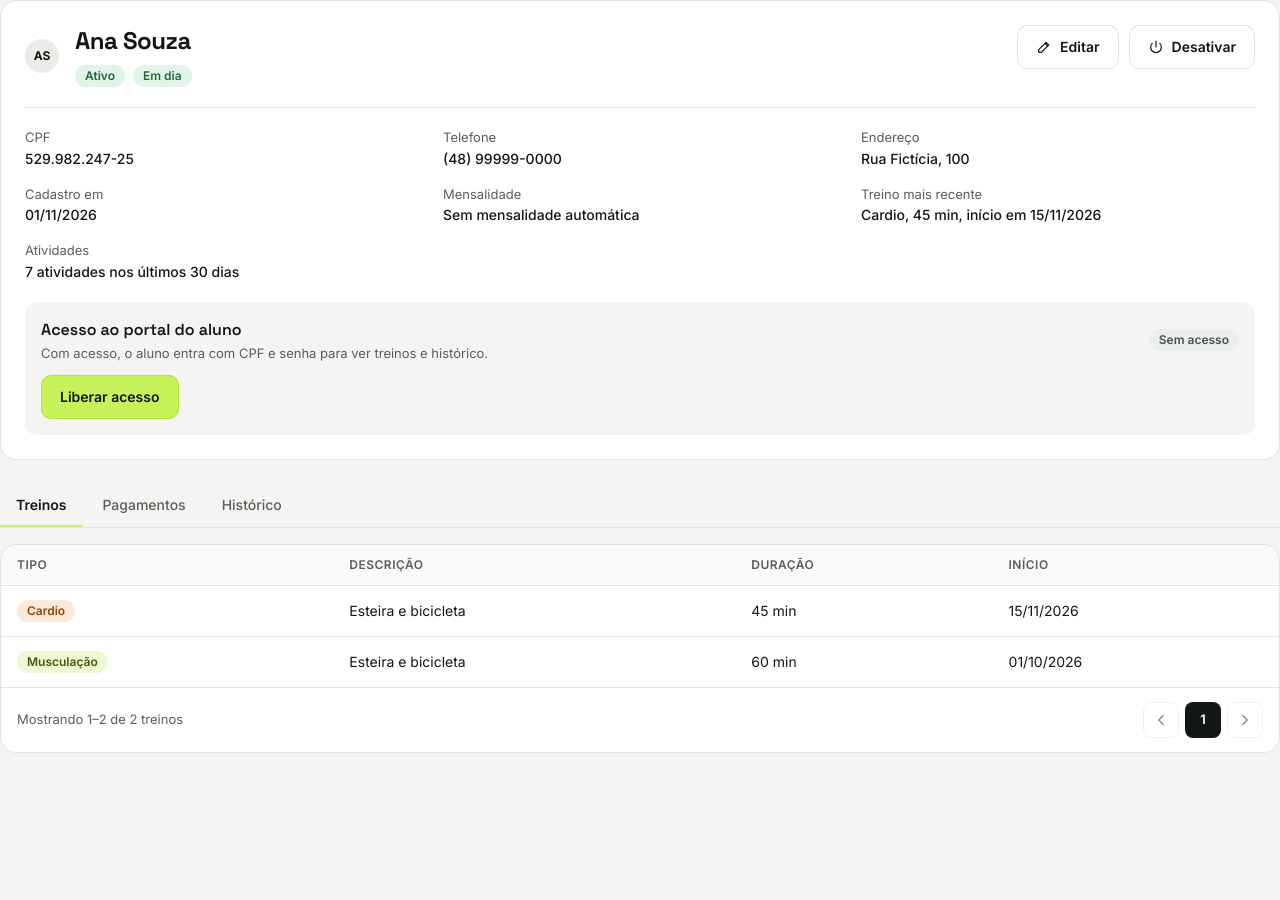
Test: FichaMembro › editar, desativar e reativar › mostra o erro da API num toast e mantém a ficha
Expected: the heading "Ana Souza" is shown, [75,25,192,57]
Click the button "Desativar". click: (1192, 47)
box: [1129,25,1255,69]
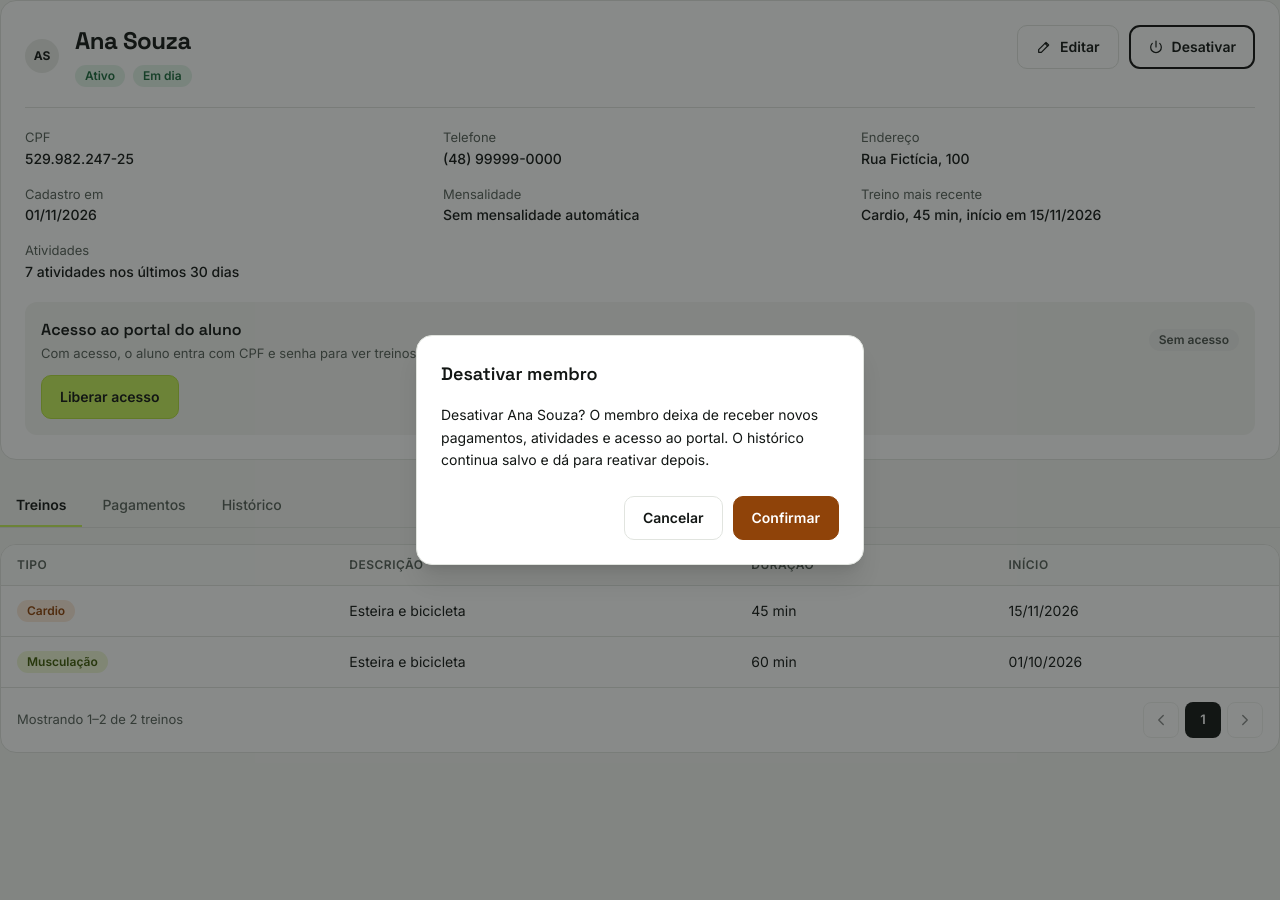
Click the button "Confirmar". click: (786, 518)
box: [732,496,839,540]
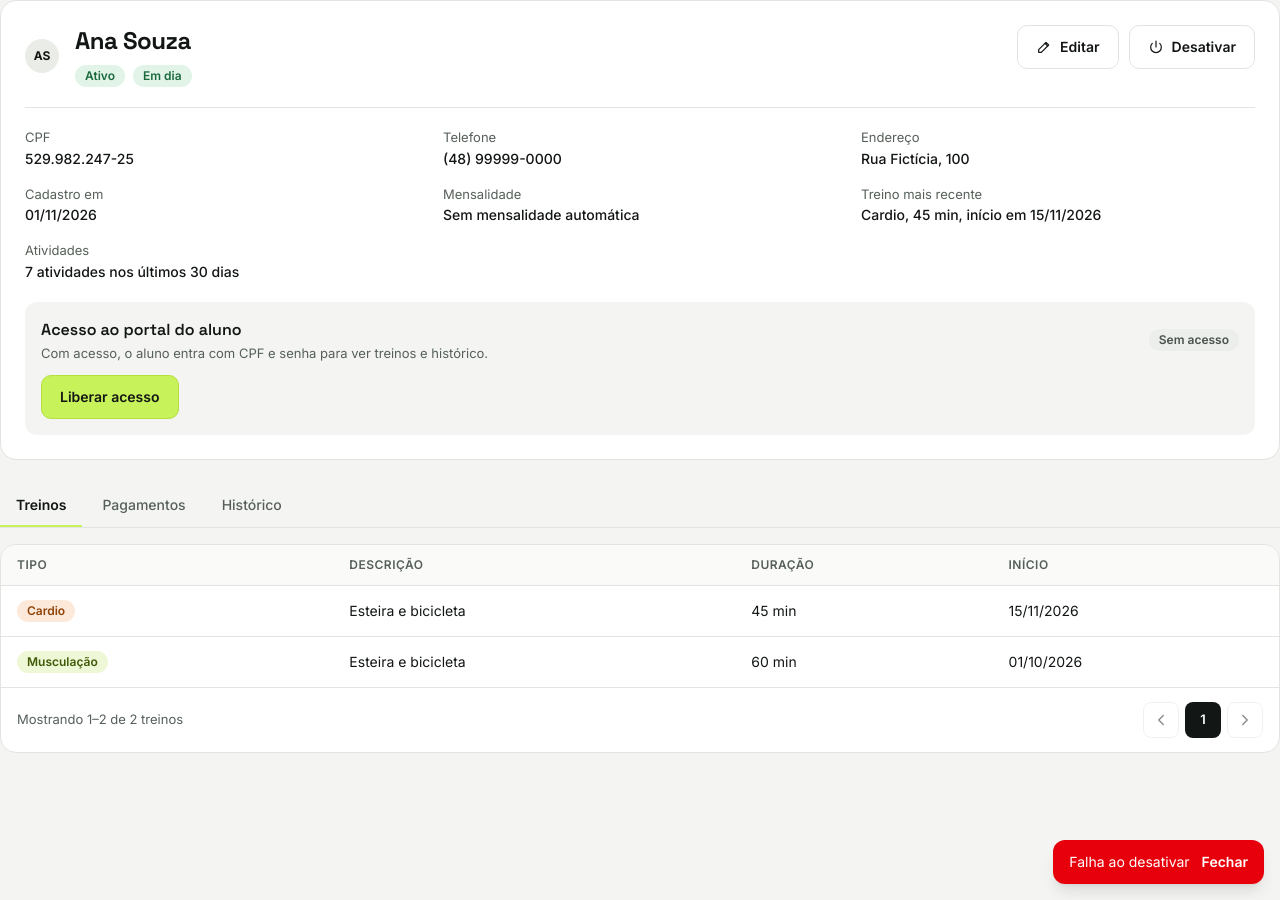
Expected: the button "Desativar" is shown, [1129,25,1255,69]
Expected: the text "Falha ao desativar" is shown, [1069,852,1190,872]
Expected: the dialog is gone
